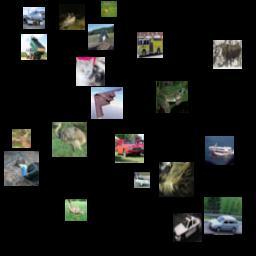airplane: (91, 87, 123, 119), (23, 7, 45, 29), (134, 172, 150, 188)
automobile: (204, 197, 242, 235), (115, 134, 144, 163), (173, 213, 202, 242)
bird: (4, 151, 39, 186), (52, 122, 87, 157), (65, 199, 87, 221)
cat: (159, 162, 194, 197), (76, 57, 105, 86)
deer: (213, 40, 242, 69), (12, 129, 31, 148), (101, 1, 117, 17)
frog: (156, 81, 188, 113), (59, 4, 85, 30)
ship: (205, 136, 234, 165)
truck: (21, 34, 47, 60), (137, 32, 163, 58)
